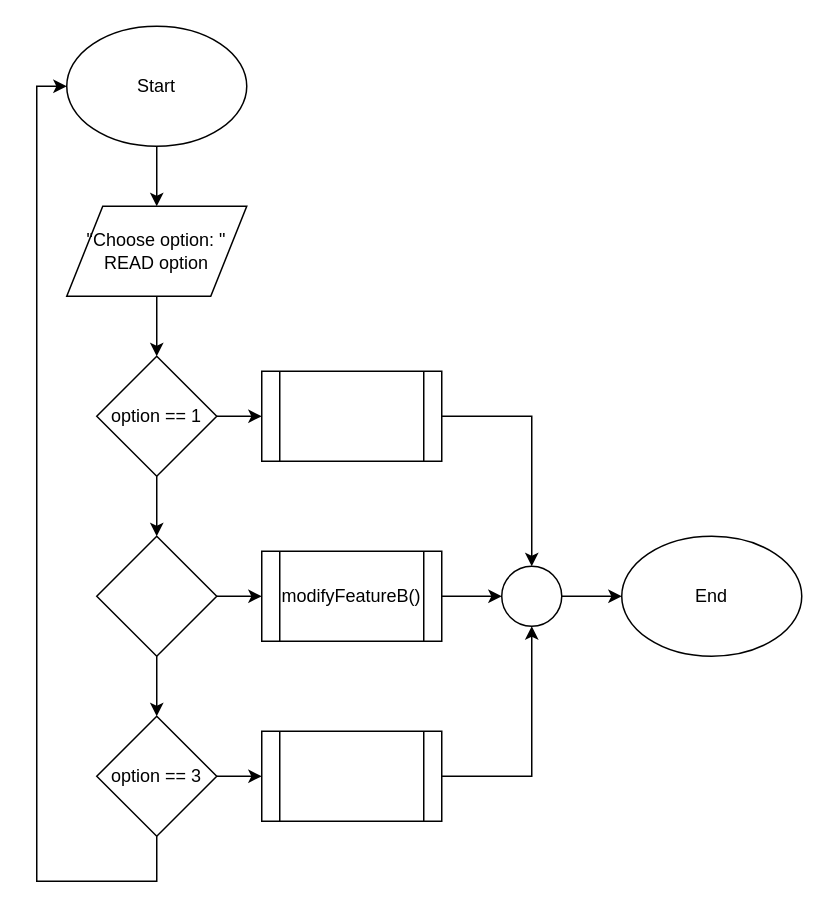
The diagram is 828 pixels wide and 920 high, and some of its shapes have lost their labels. Here are the shapes that lost their labels. From the top down, the box of each, then its label:
(260, 370, 442, 461): modifyFeatureA()
(95, 535, 217, 656): option == 2
(260, 730, 442, 821): menu()
